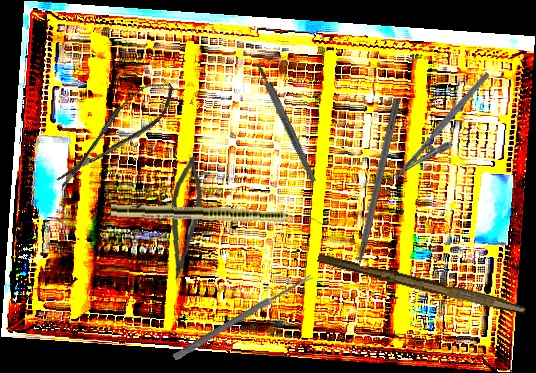Handpiece: (110, 203, 324, 227)
Hook Surgical: (348, 97, 401, 288)
Micro Scissor: (44, 72, 185, 195), (165, 155, 206, 282)
Needle Holder: (391, 71, 505, 193)
Scalpel Handle: (316, 252, 528, 315), (254, 61, 318, 184)
Surgical Spoon: (172, 272, 314, 362)
